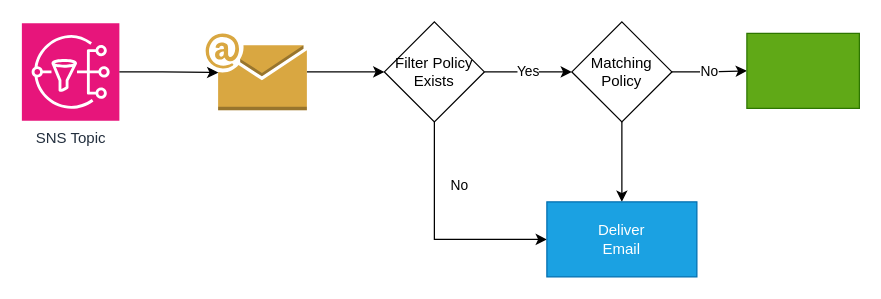
Image size: 881x299. Some labels were removed from this diagram. Each missing label, with the centre of its shape:
Drop Email: the point at 802,70
Email Suscription: the point at 255,71
